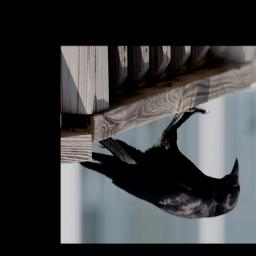Crow: (78, 107, 241, 220)
